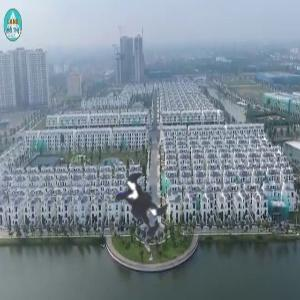drone: (78, 142, 206, 270)
